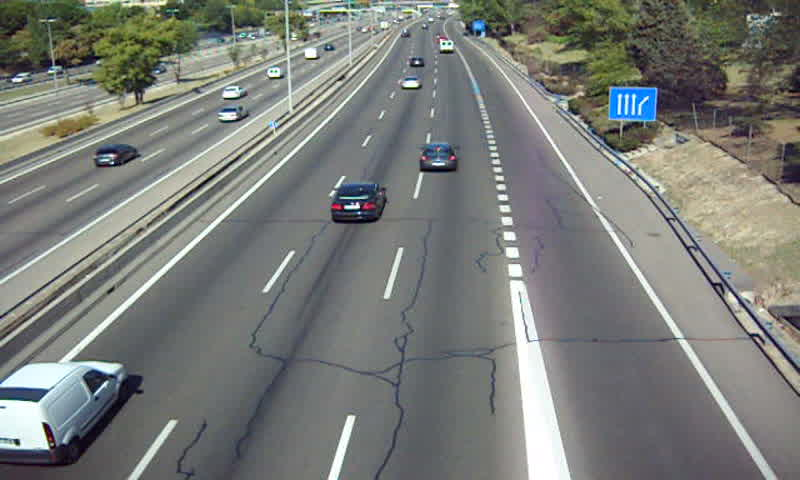car: (331, 182, 386, 221), (419, 143, 456, 172), (399, 75, 422, 91), (407, 57, 425, 71)
van: (1, 360, 126, 465)
